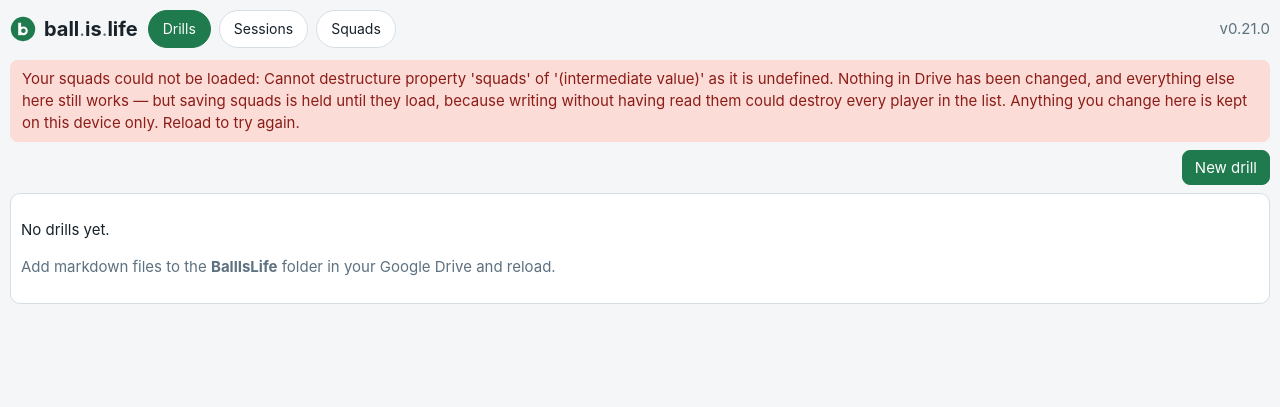
back from the session builder › returns to the session list and updates the url
The image size is (1280, 407).
Click the button "Sessions".
click(264, 29)  # box [219,10,308,48]
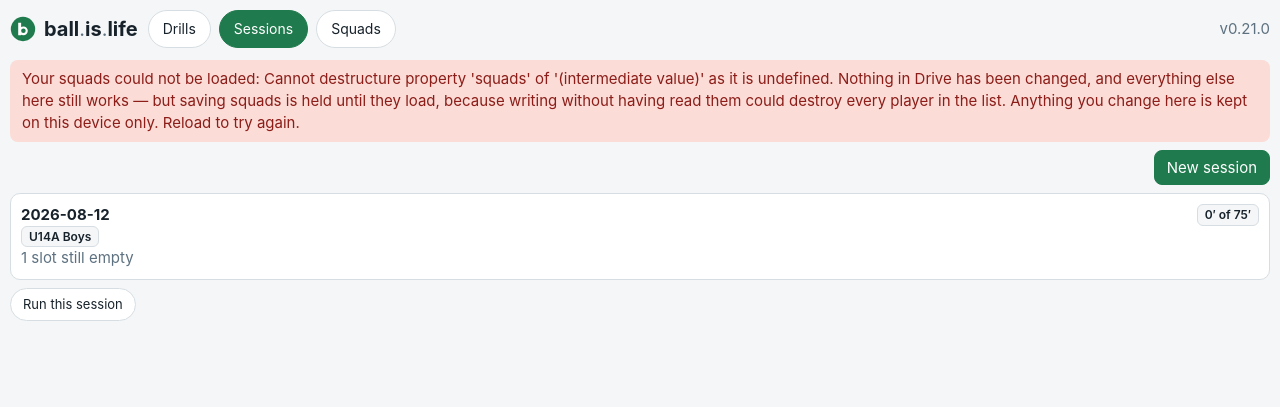
Click the button "2026-08-12 0′ of 75′ U14A Boys 1 slot still empty".
click(65, 215)  # box [10,193,1270,280]
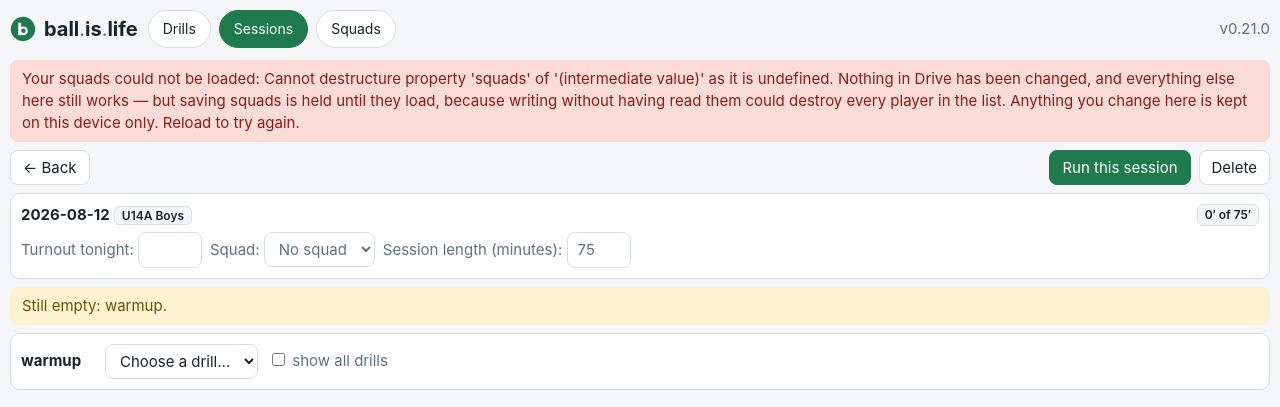
Click the button "← Back".
click(50, 167)  # box [10,150,90,185]
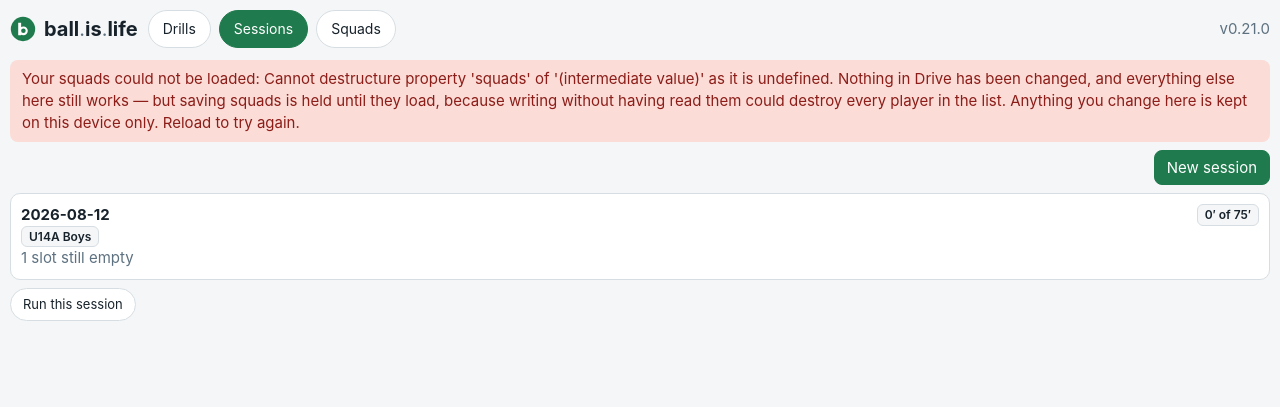
Now the text "New session" is shown, box [1154,150,1270,185]
